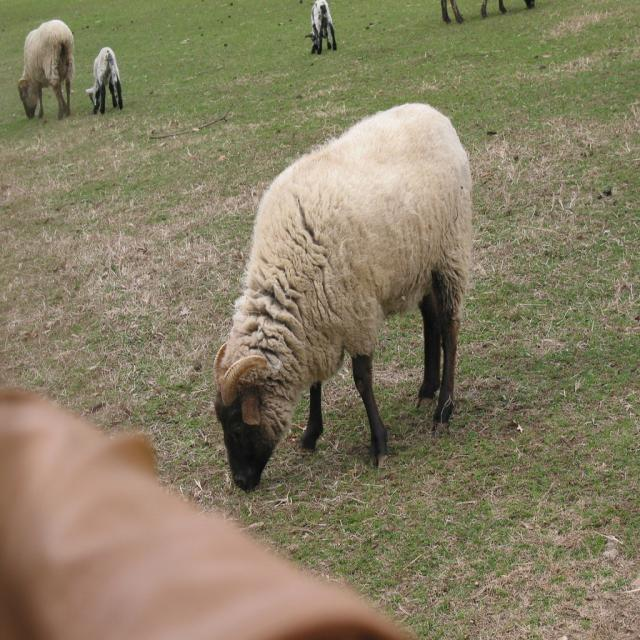Sheep: (210, 100, 473, 496), (17, 20, 75, 119)
